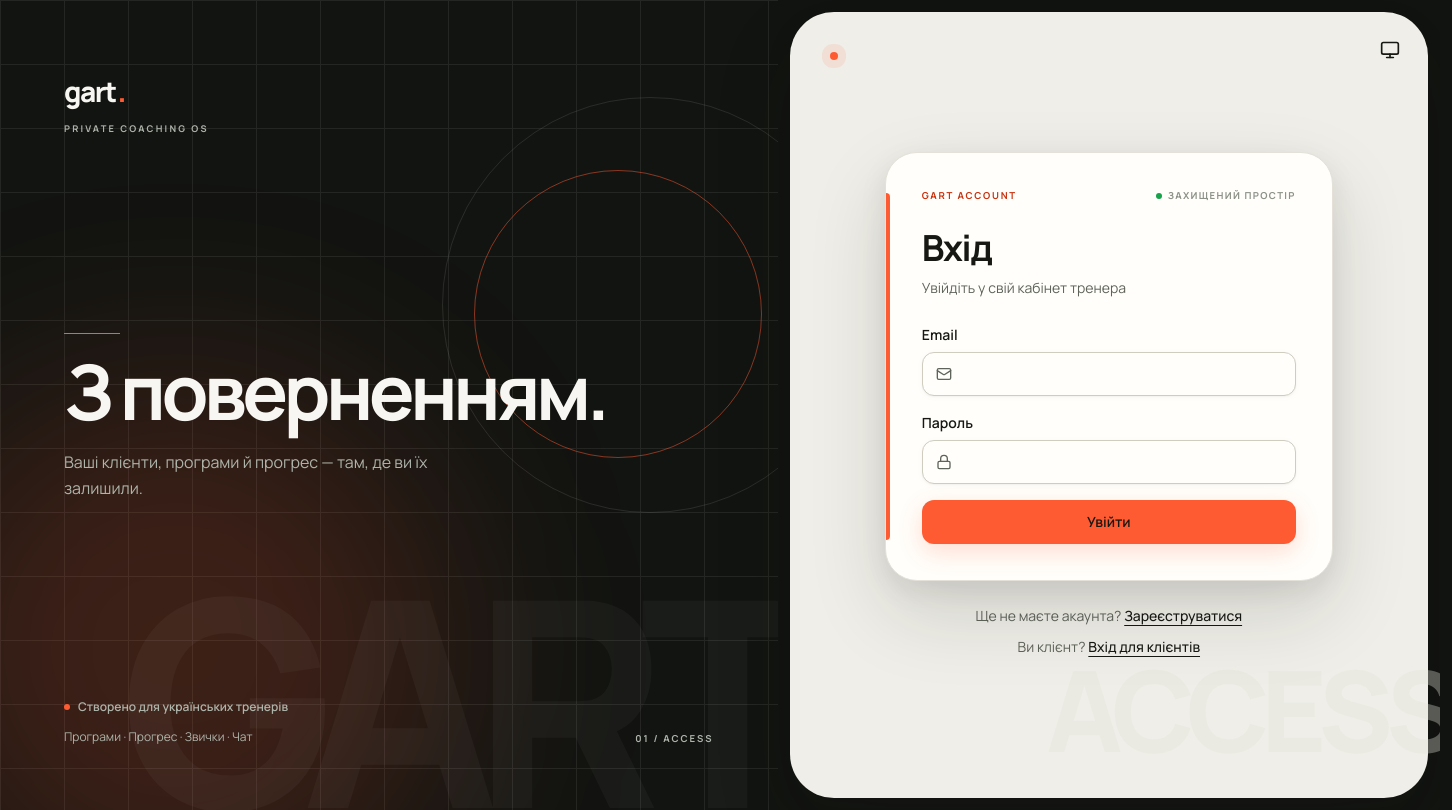
auth screens › falls back to a generic message when the failure is not an ApiError
Type "demo@gart.fit" into the field labelled "Email" at point(1109, 374), box [922,352,1296,396]
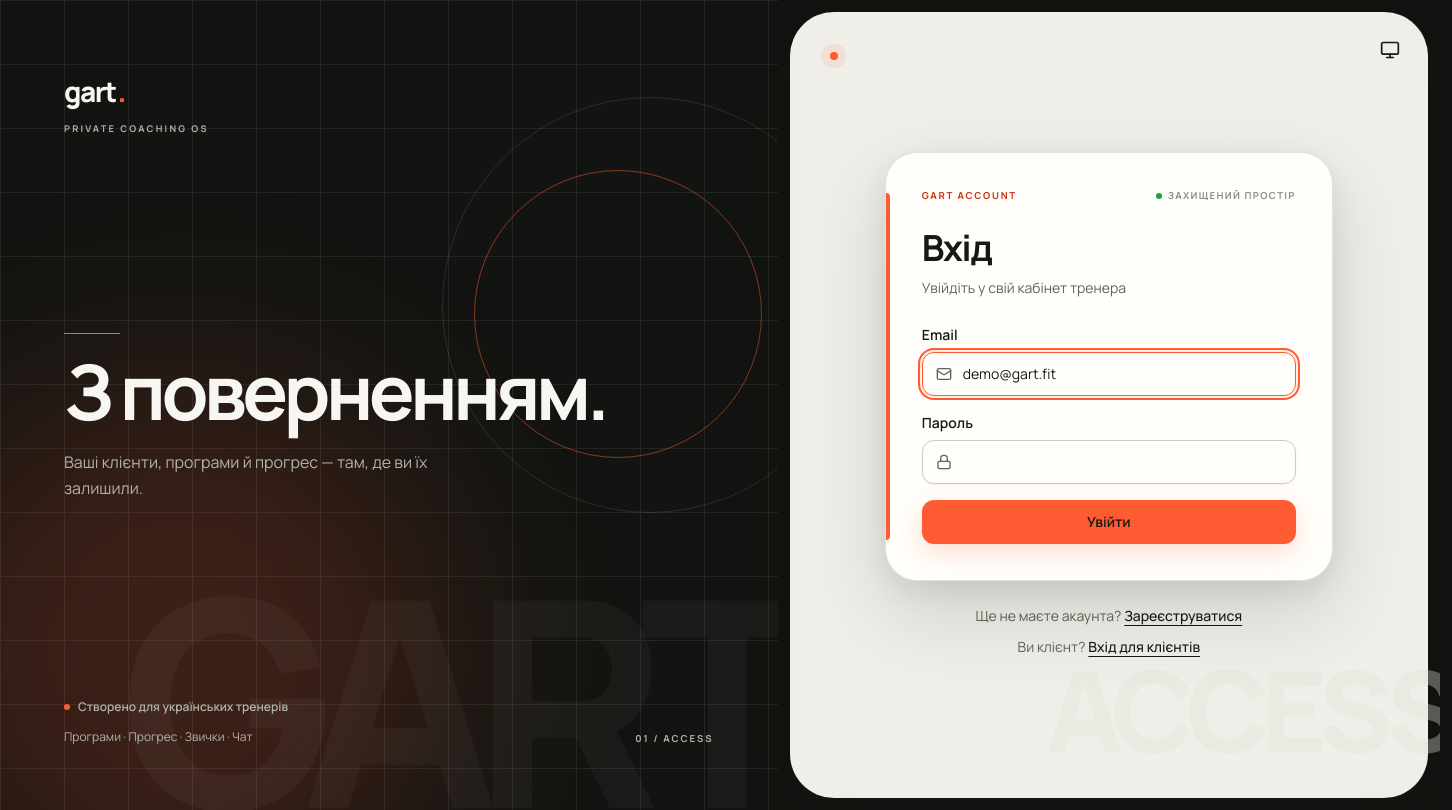
Type "demo12345" into the password field labelled "Пароль" at point(1109, 462), box [922,440,1296,484]
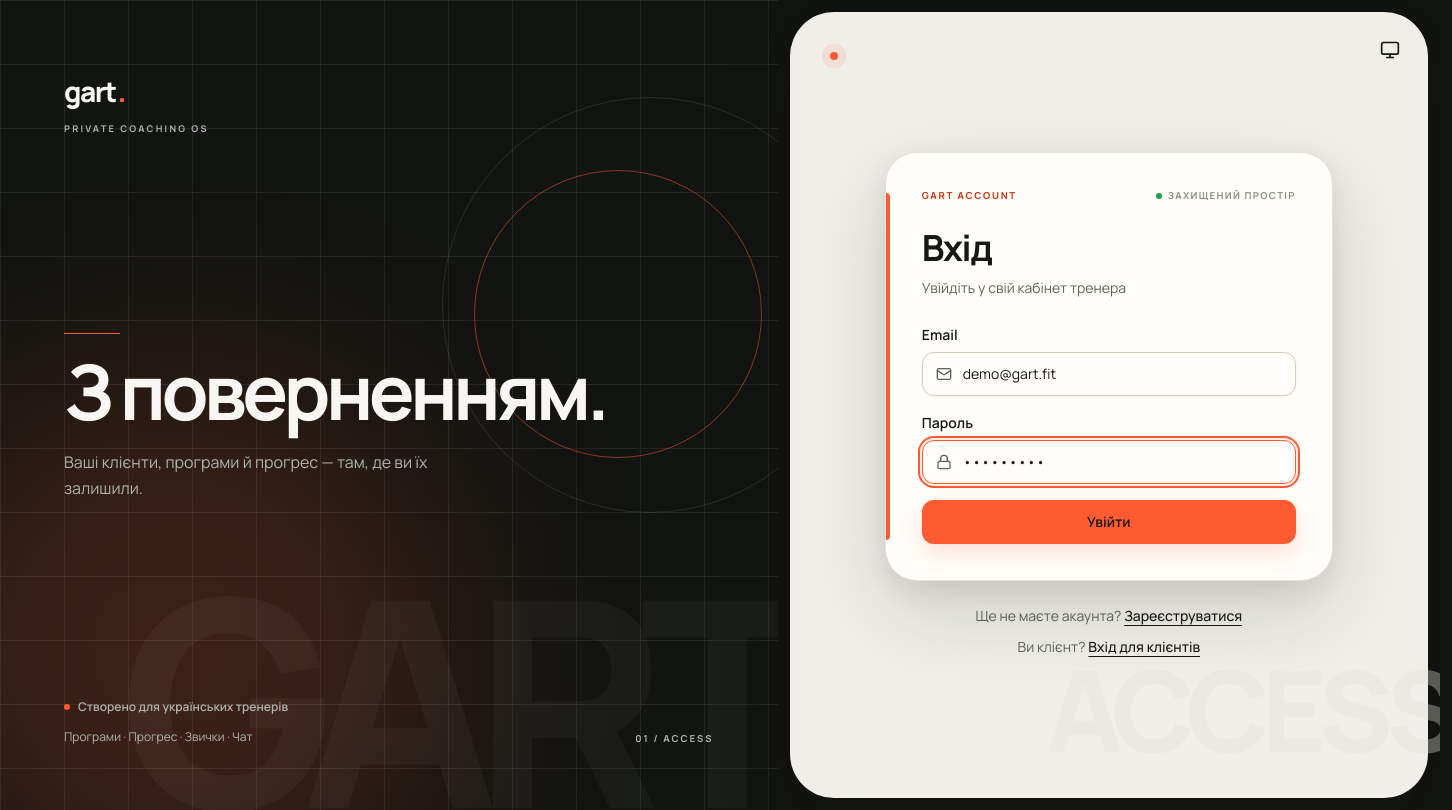
Click the button "Увійти" at point(1109, 522), box [922,500,1296,544]
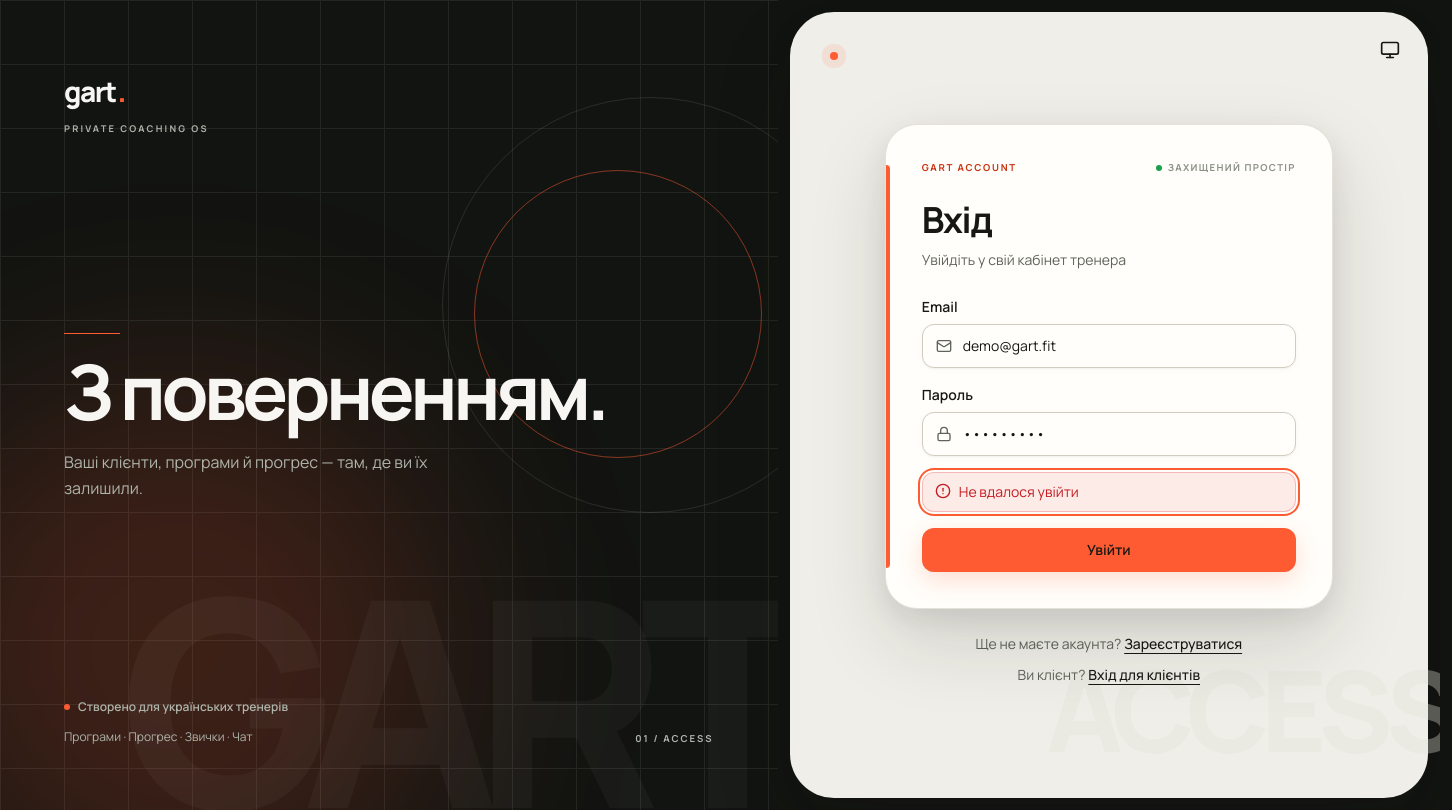
Expected: the message does not show "boom", [922,472,1296,512]
Result: the message reads "Не вдалося увійти" at [959,482,1079,501]
